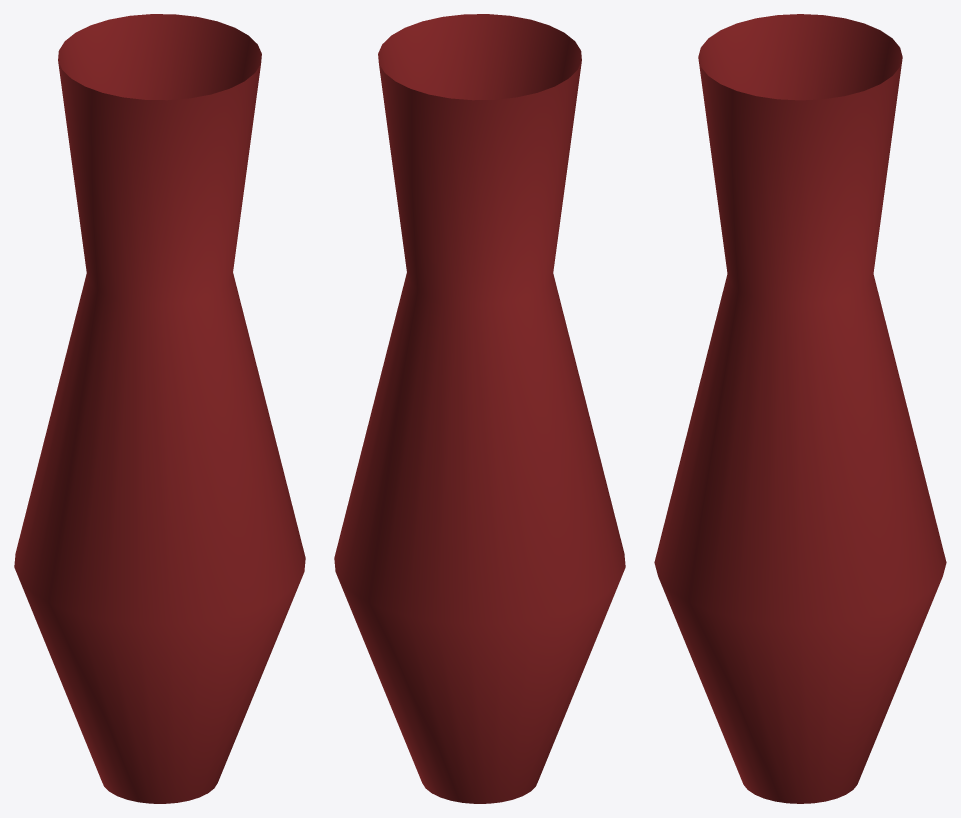
File: FET-VAS-tall.glb
3 views of the same model, side by side, from view 1: azimuth 30°, elevation 25°; view 2: azimuth 150°, elevation 25°; view 3: azimuth 270°, elevation 25° (orthographic).
Visible parts, largest first — view 1: FET-VAS-tall; view 2: FET-VAS-tall; view 3: FET-VAS-tall.
Part boxes in pixels (x1,y1,x2,y2): FET-VAS-tall: (14, 14, 305, 803); FET-VAS-tall: (334, 14, 625, 803); FET-VAS-tall: (654, 14, 946, 803).
Bounding box in the file's own units: 0.22 × 0.6 × 0.22.
